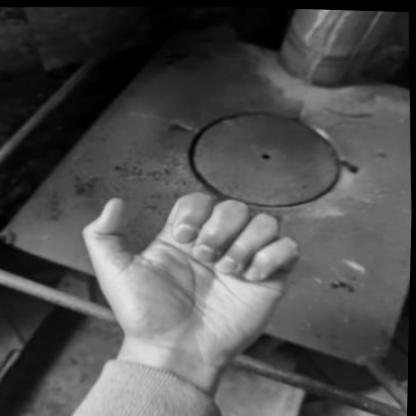E: (57, 169, 321, 392)
